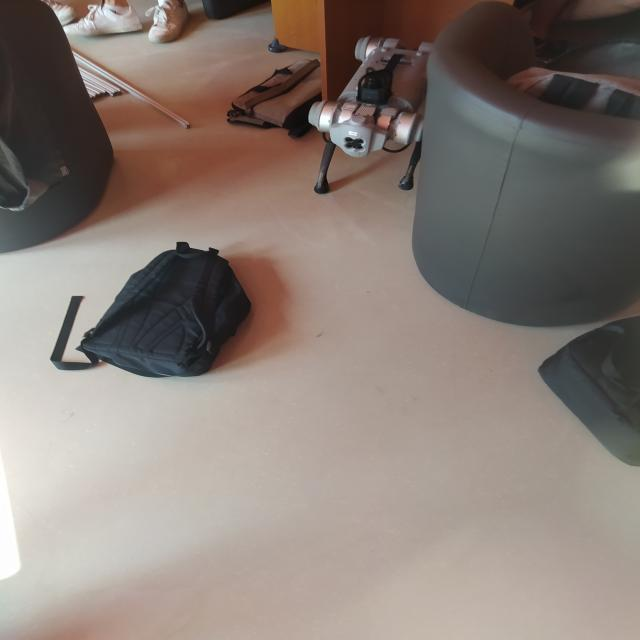unitree-go1-robot: (295, 28, 460, 205)
